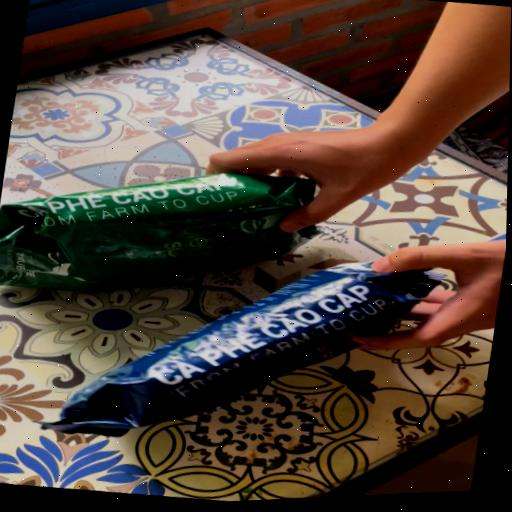cafe_hat: (40, 262, 444, 436)
cafe_xay: (0, 174, 319, 292)
